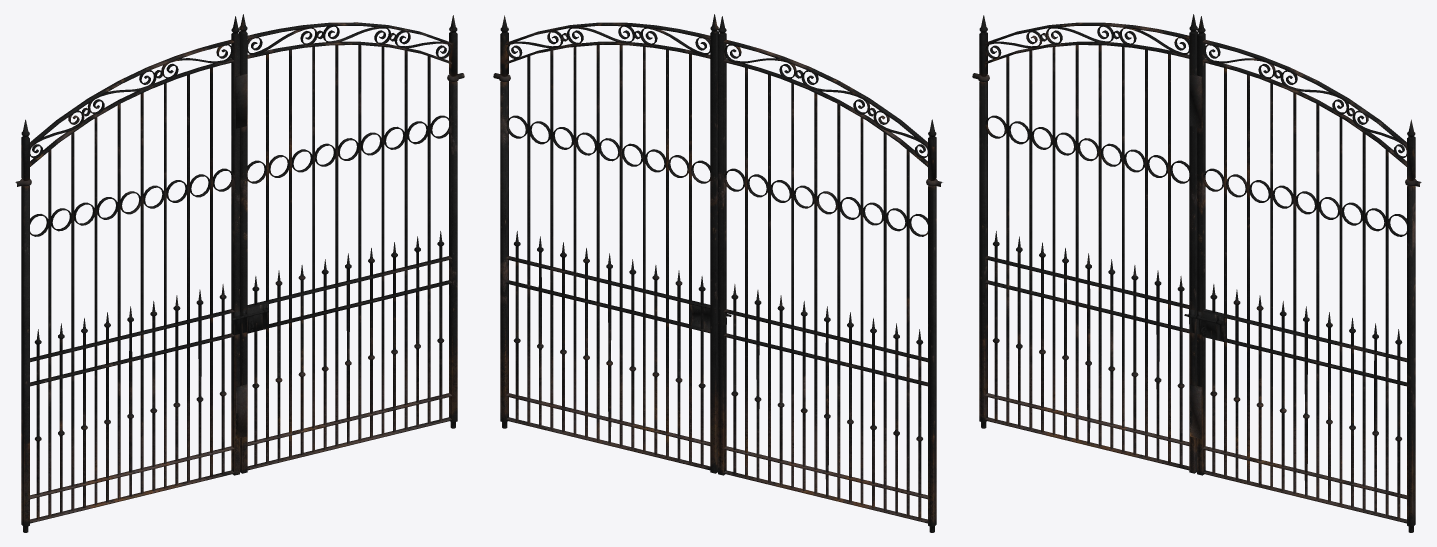
File: large_iron_gate_1k.gltf
3 views of the same model, side by side, from view 1: azimuth 30°, elevation 25°; view 2: azimuth 150°, elevation 25°; view 3: azimuth 330°, elevation 25° (orthographic).
Parts seen in each view (by area): view 1: large_iron_gate_right_door, large_iron_gate_left_door; view 2: large_iron_gate_left_door, large_iron_gate_right_door; view 3: large_iron_gate_right_door, large_iron_gate_left_door.
Boxes of the visible parts, left/top/right/bottom form: large_iron_gate_right_door: left=235, top=14, right=457, bottom=473; large_iron_gate_left_door: left=21, top=16, right=241, bottom=532; large_iron_gate_left_door: left=718, top=16, right=936, bottom=532; large_iron_gate_right_door: left=500, top=14, right=718, bottom=473; large_iron_gate_right_door: left=1190, top=16, right=1415, bottom=532; large_iron_gate_left_door: left=979, top=14, right=1197, bottom=473.
Size of the model in its own units: 2.95 by 2.93 by 0.0973.
Materials: 1 (1 with a texture image).
